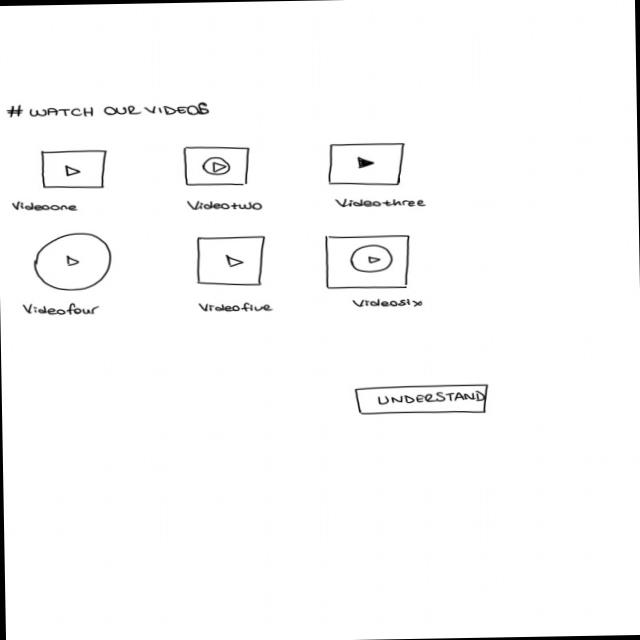button: (354, 384, 491, 417)
label: (3, 99, 216, 122), (335, 196, 429, 210), (21, 302, 102, 317), (197, 301, 277, 315), (186, 199, 265, 212), (351, 298, 426, 310), (12, 201, 80, 214)
